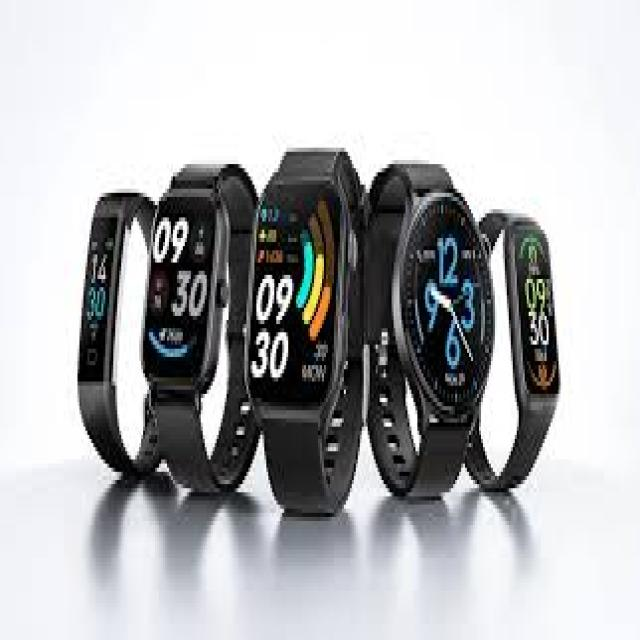objects: (244, 148, 362, 513), (366, 160, 493, 492), (465, 213, 560, 488), (81, 193, 155, 468)
